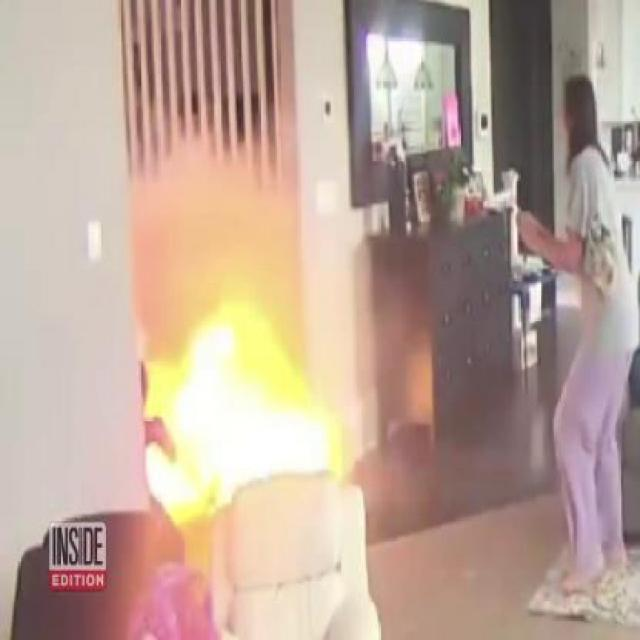fire: (142, 266, 361, 512)
